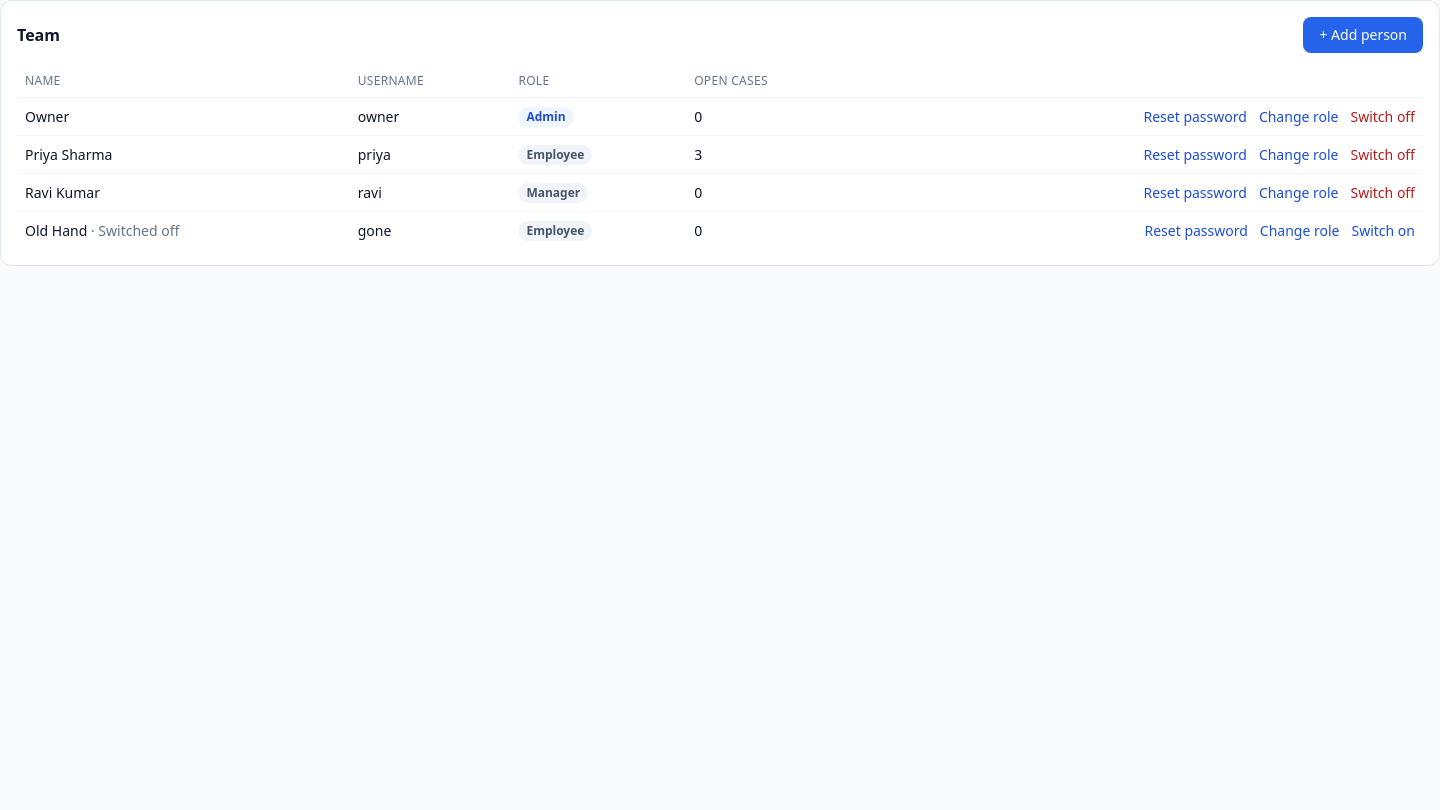
Scenario: Team › shows the server's reason when a switch off is refused
Click the button with aria-label "Switch off Owner": x=1383, y=116 [1350, 106, 1415, 126]
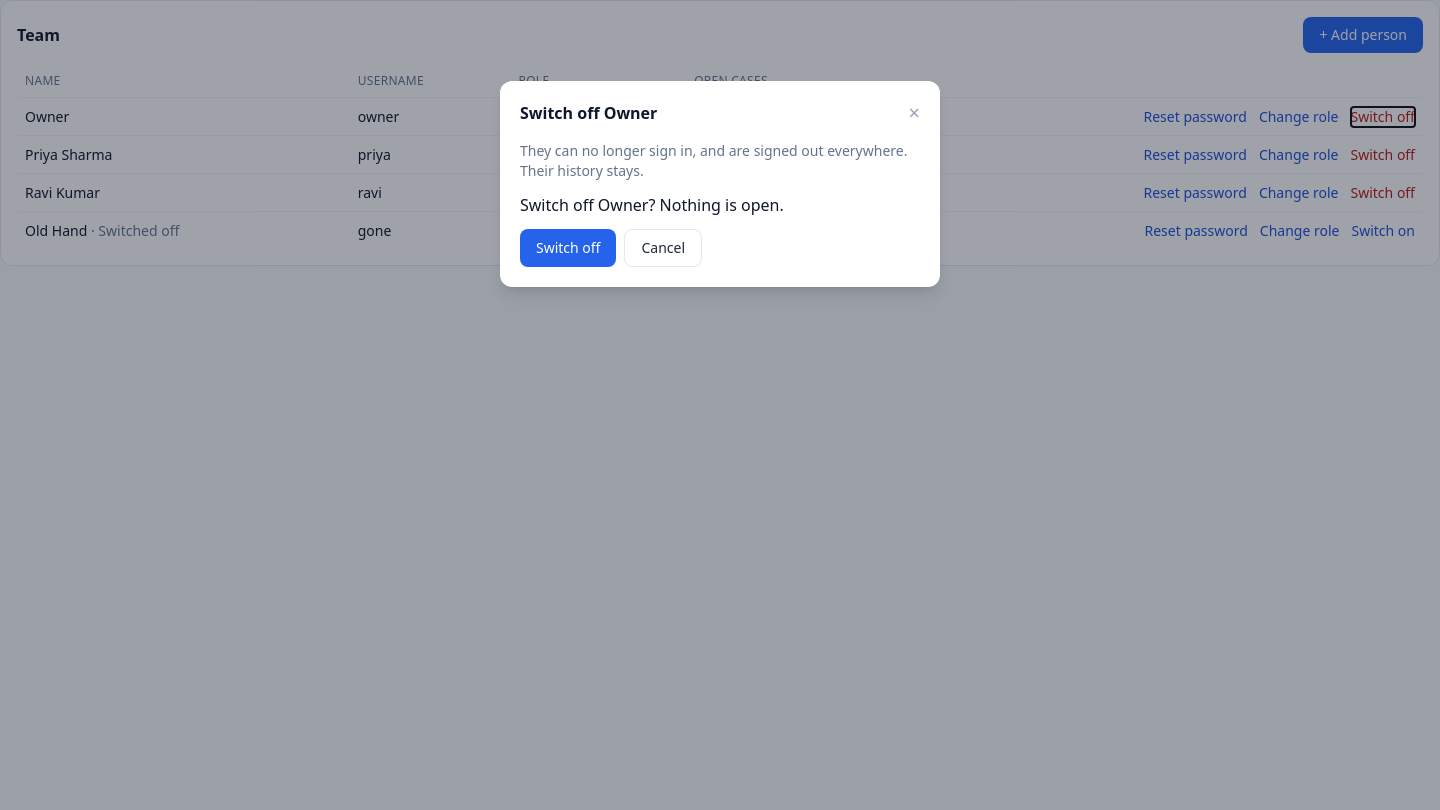
Expected: the text "Switch off Owner? Nothing is open." is shown, [520, 194, 784, 216]
Click the button "Switch off": x=568, y=248 [520, 229, 616, 267]
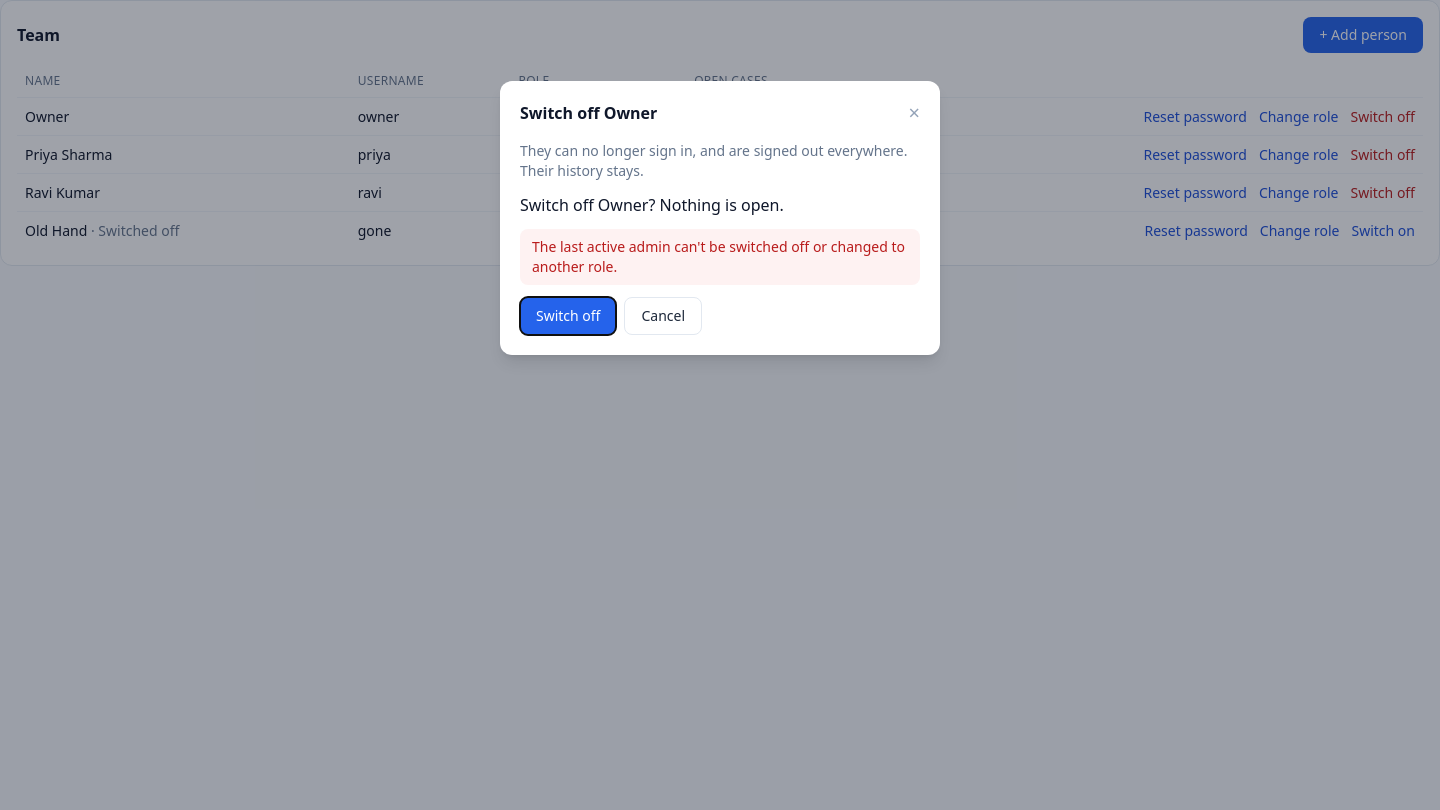
Expected: the message shows "The last active admin can't be switched off", [532, 237, 905, 276]
